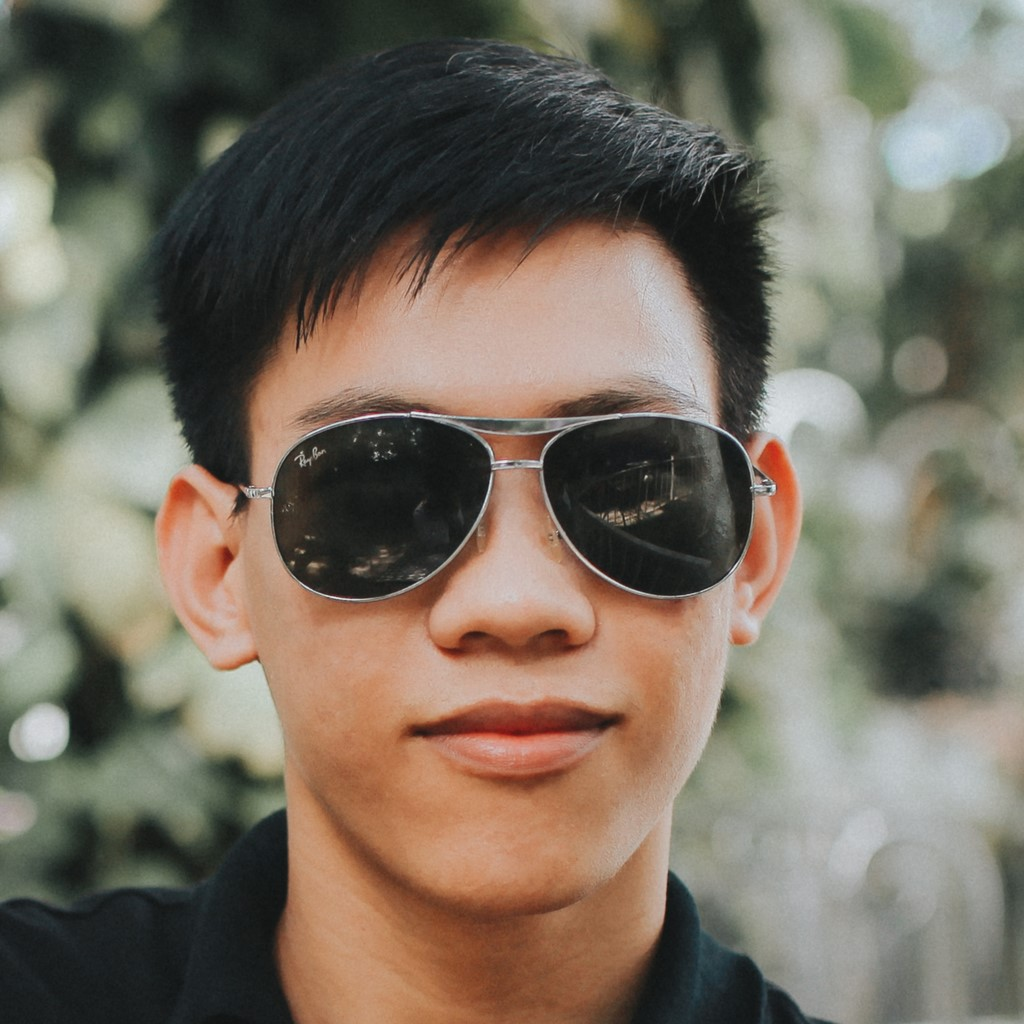sin_mascara: (176, 93, 776, 949)
